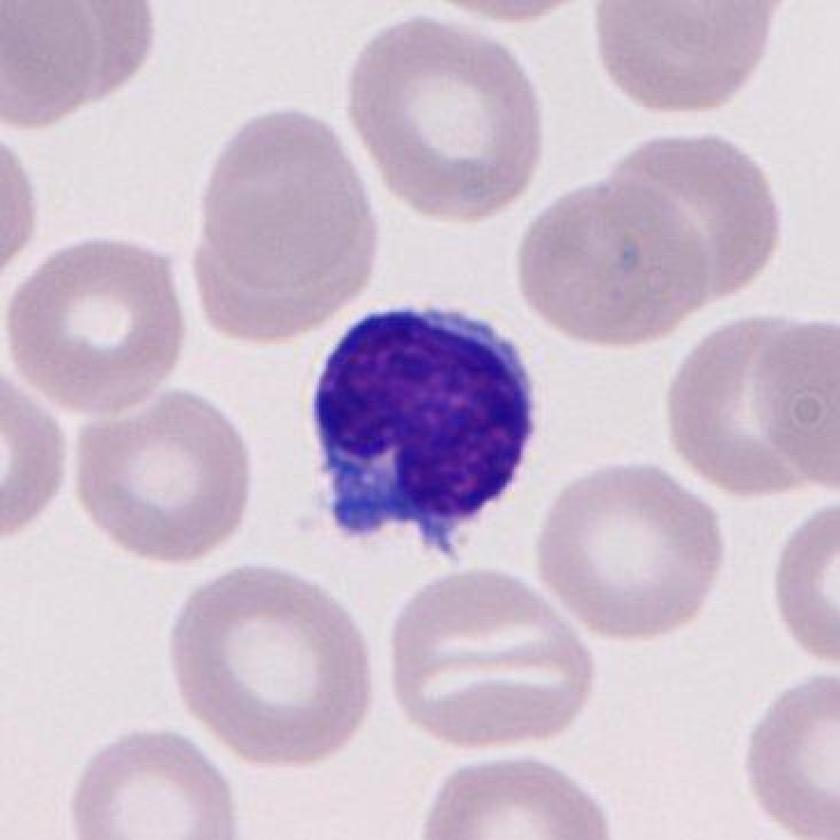lymphocyte: (295, 290, 552, 575)
